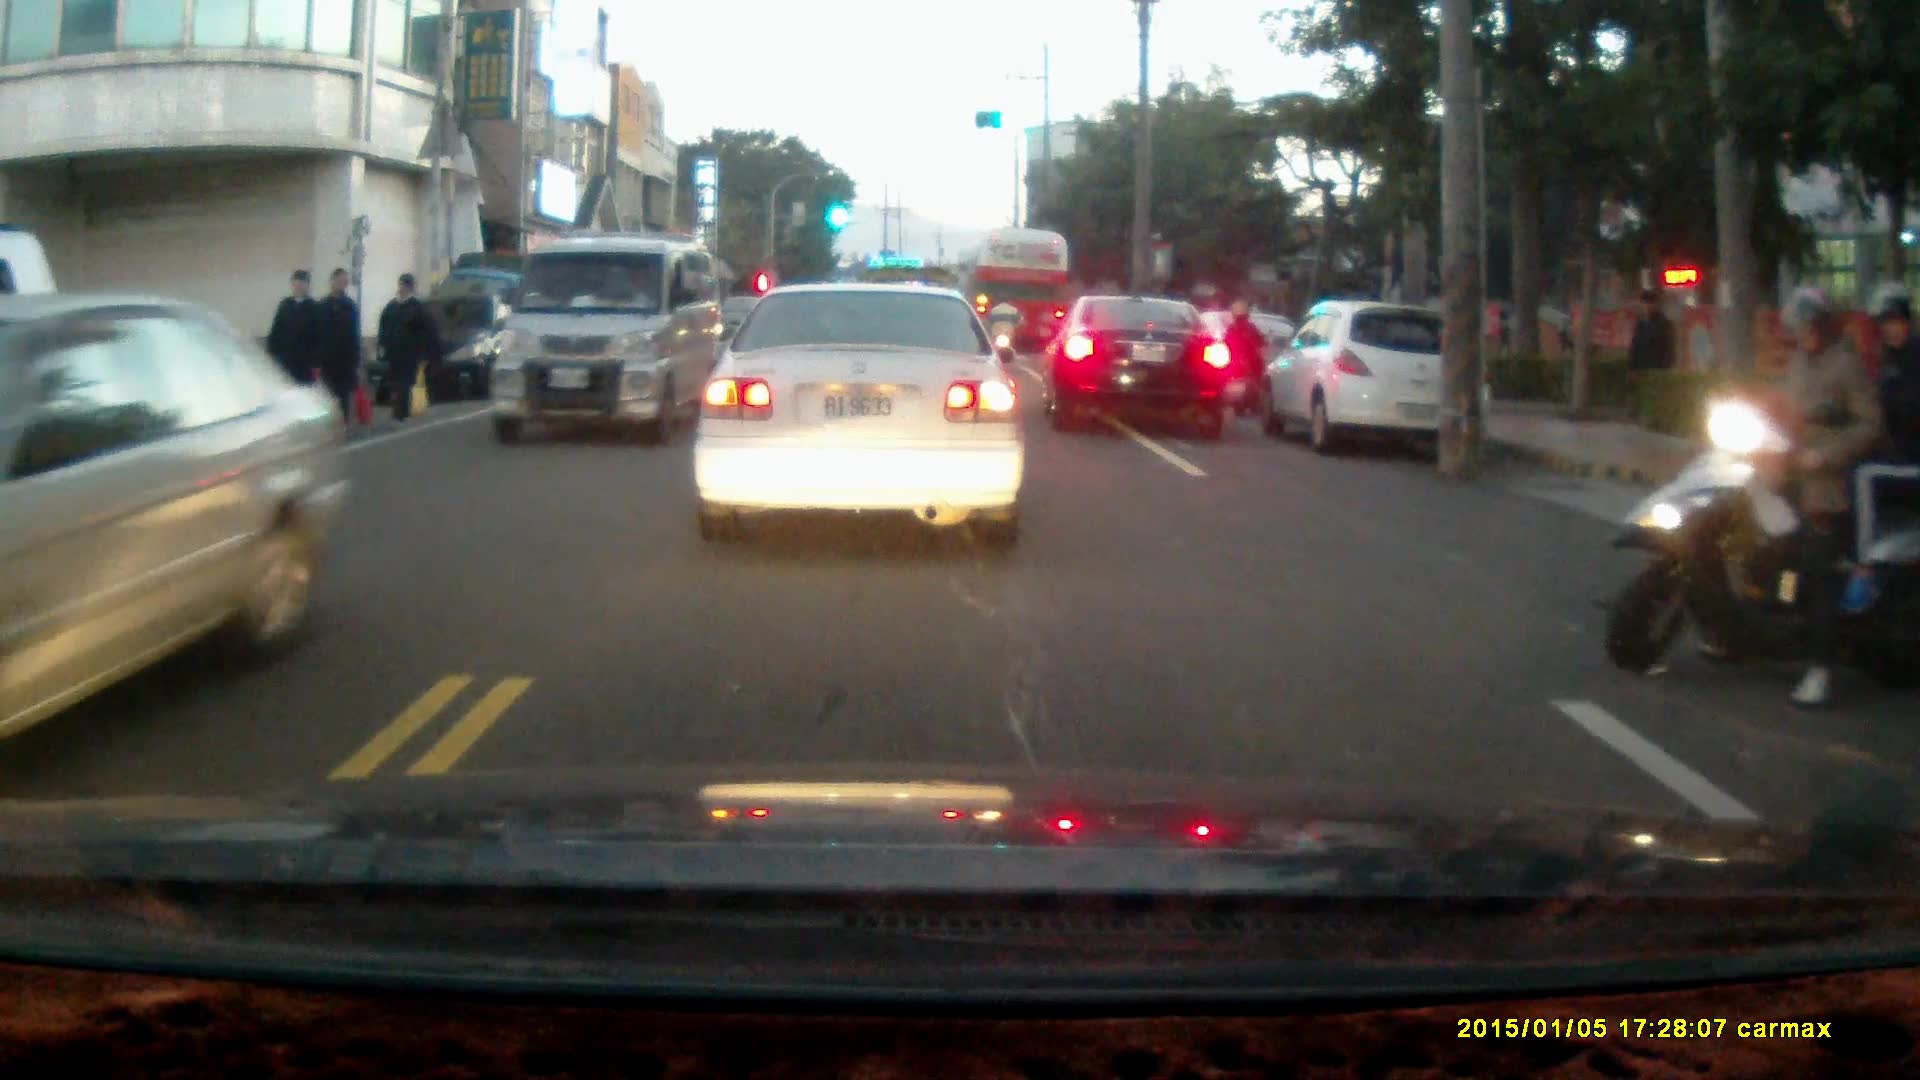pedestrian: (262, 265, 327, 453), (295, 263, 358, 442), (374, 270, 433, 424), (1628, 285, 1682, 422)
rider: (1605, 278, 1917, 703), (1220, 296, 1272, 416), (984, 288, 1023, 372)
vehicle: (1, 292, 357, 754), (690, 279, 1029, 551), (487, 233, 727, 448), (1256, 296, 1493, 460), (1043, 297, 1237, 440), (375, 290, 540, 406), (973, 224, 1072, 368)
